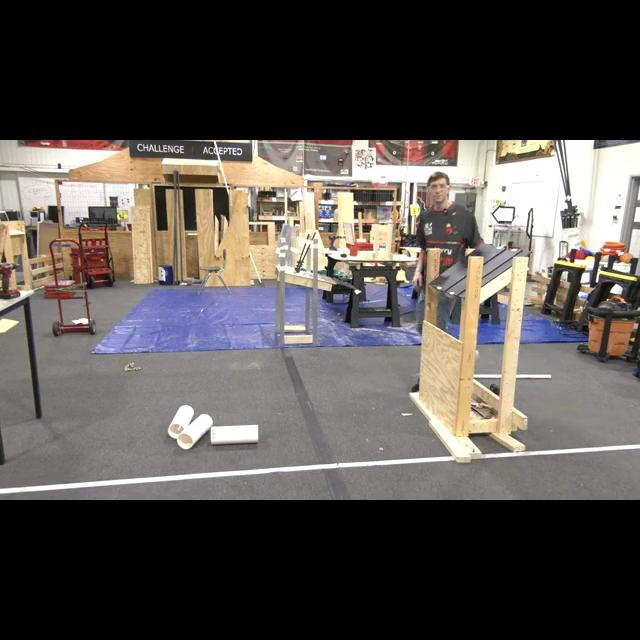CORAL: (175, 412, 212, 448), (210, 423, 258, 445), (166, 403, 194, 439)
